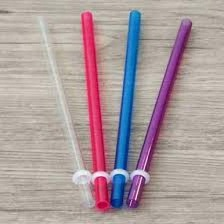drinking_straw: (124, 13, 197, 212), (32, 10, 100, 212), (104, 5, 148, 210), (77, 7, 113, 212)
